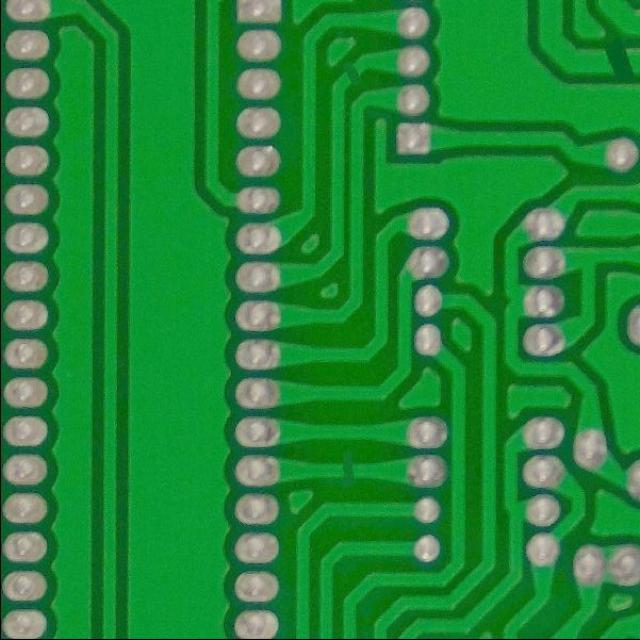Open_Circuit: (324, 445, 371, 490), (336, 56, 368, 90)
